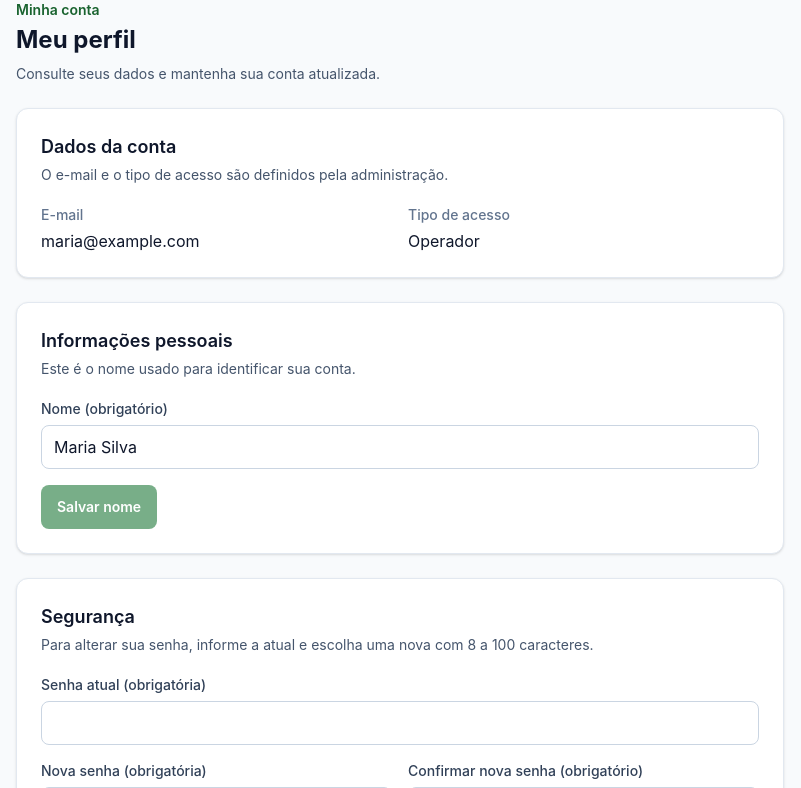
Test case: exibe o erro da senha atual sem mostrar sucesso e permite mostrar ou ocultar senhas
Expected: the field showing "Maria Silva" is shown, [41,425,759,469]
Type "senha-antiga-123" into the password field labelled "Senha atual (obrigatória)" at (400, 723), box [41,701,759,745]
(page scrolled)
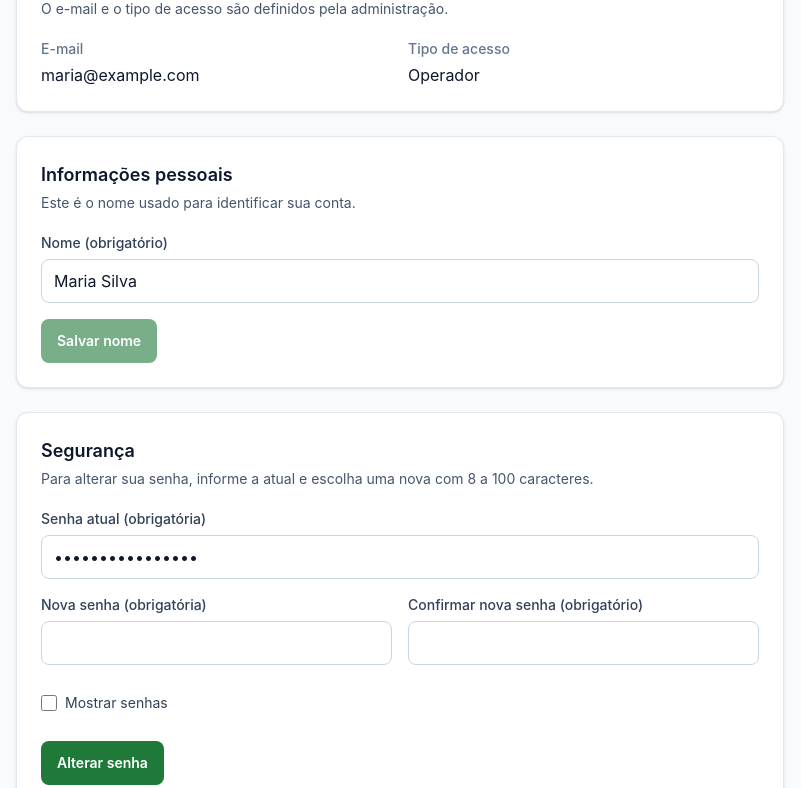
Type "senha-nova-123" into the password field labelled "Nova senha (obrigatória)" at (216, 643), box [41,621,392,665]
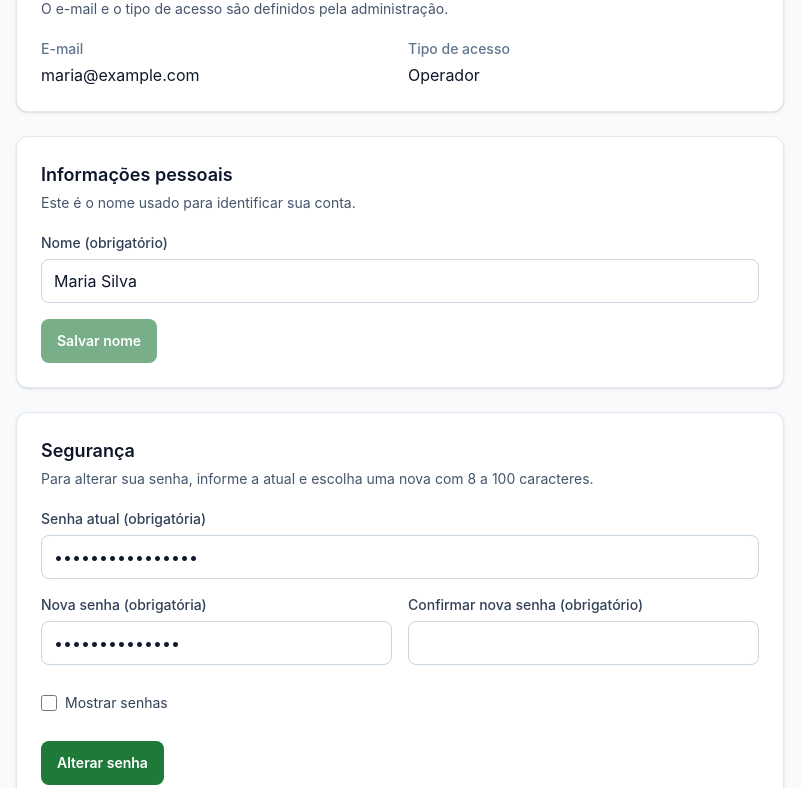
Type "senha-nova-123" into the password field labelled "Confirmar nova senha (obrigatório)" at (584, 643), box [408,621,759,665]
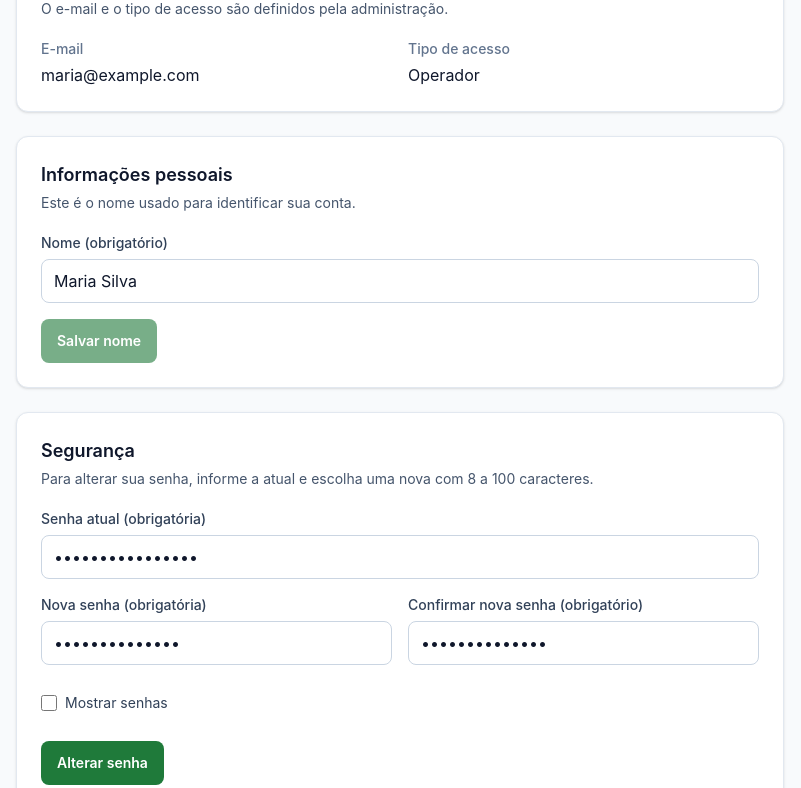
Click the checkbox labelled "Mostrar senhas" at (49, 703), box [41,695,57,711]
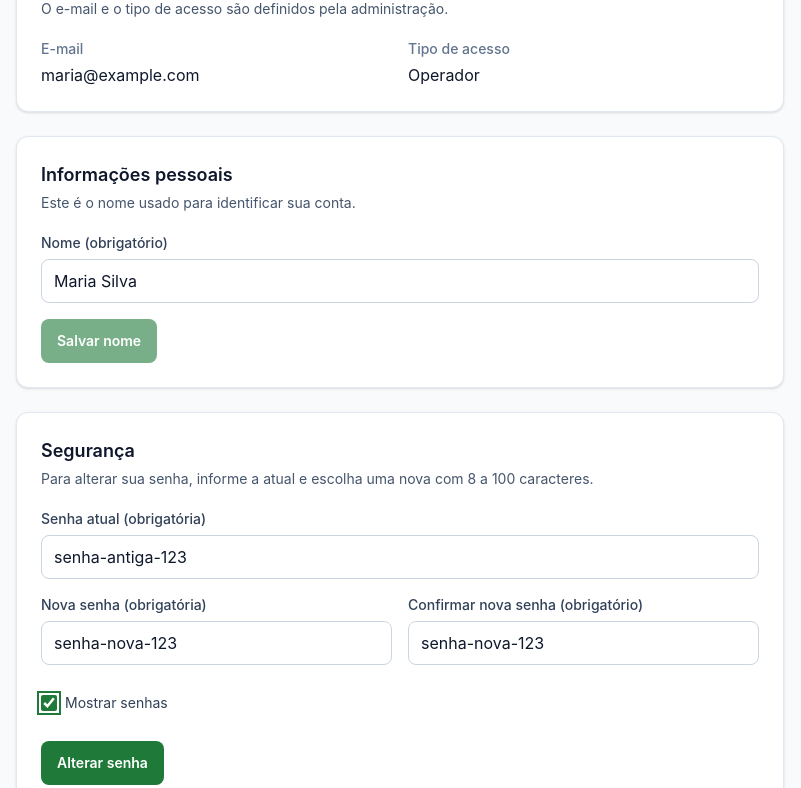
Now the field labelled "Senha atual (obrigatória)" shows its text, box [41,535,759,579]
Click the button "Alterar senha" at (102, 763), box [41,741,164,785]
(page scrolled)
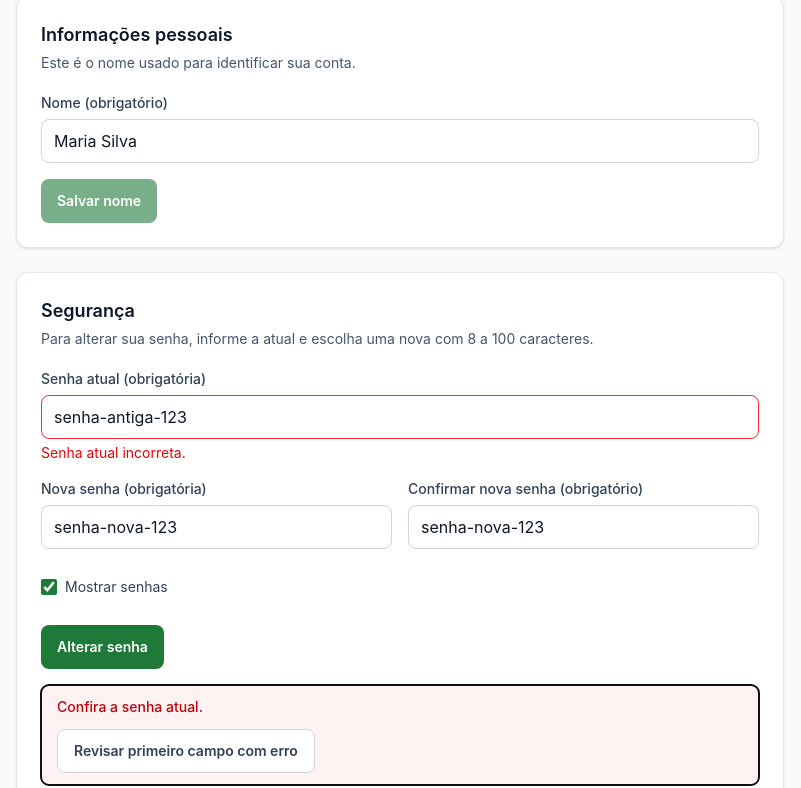
Now the text "Senha atual incorreta." is shown, box [41,444,186,461]
